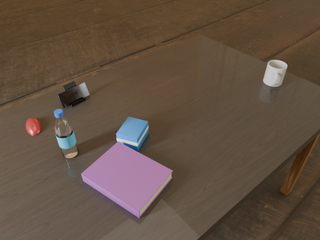book: (81, 142, 173, 218)
bottle: (54, 109, 78, 158)
box: (116, 117, 148, 151)
cup: (263, 60, 287, 87)
mouse: (26, 118, 41, 135)
phone: (57, 82, 89, 108)
